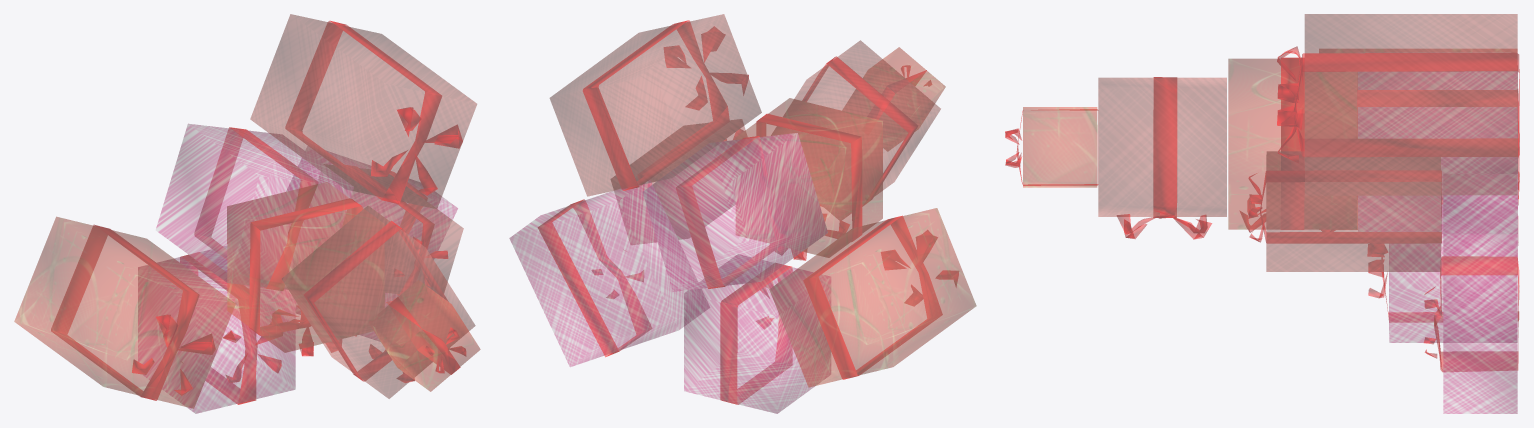
Rendered from gift.glb.
3 renders of one model, left to right at view 1: azimuth 30°, elevation 25°; view 2: azimuth 150°, elevation 25°; view 3: azimuth 270°, elevation 25°, orthographic. The views are drawn at different scales.
Parts seen in each view (by area): view 1: 13495_Stack_of_Gifts_v2_L2; view 2: 13495_Stack_of_Gifts_v2_L2; view 3: 13495_Stack_of_Gifts_v2_L2.
Part boxes in pixels (<box>): 13495_Stack_of_Gifts_v2_L2: <box>14,14,480,413</box>; 13495_Stack_of_Gifts_v2_L2: <box>509,14,976,413</box>; 13495_Stack_of_Gifts_v2_L2: <box>1005,14,1519,413</box>.
Bounding box in the file's own units: 170 × 129 × 166.
5 materials, 3 textured.
